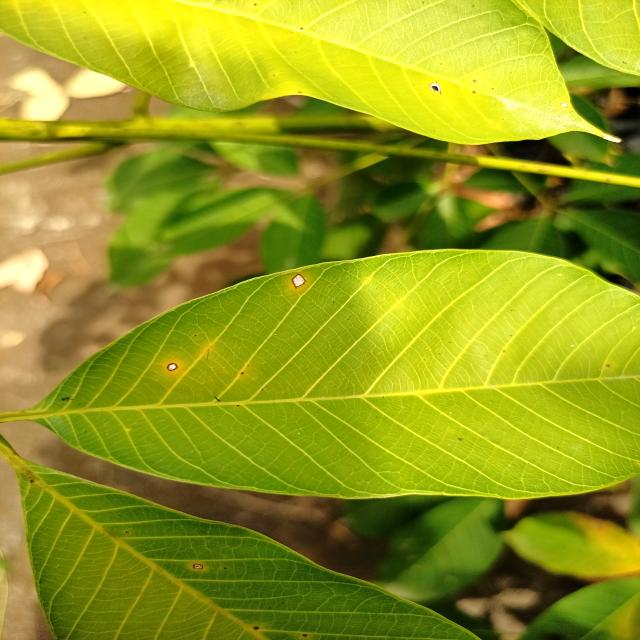Colletotrichum: (292, 274, 306, 288), (167, 363, 178, 371), (193, 564, 203, 570), (560, 102, 568, 108), (254, 626, 259, 630), (302, 634, 308, 637), (125, 531, 129, 533), (472, 91, 476, 93), (241, 372, 244, 374), (473, 80, 476, 82)
